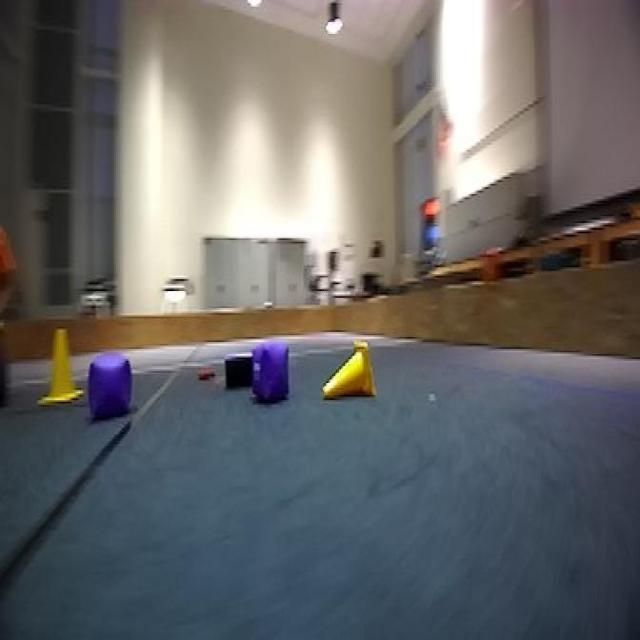frc_cone: (321, 337, 380, 412), (40, 323, 75, 407)
frc_cube: (250, 339, 292, 407), (88, 356, 130, 418)
